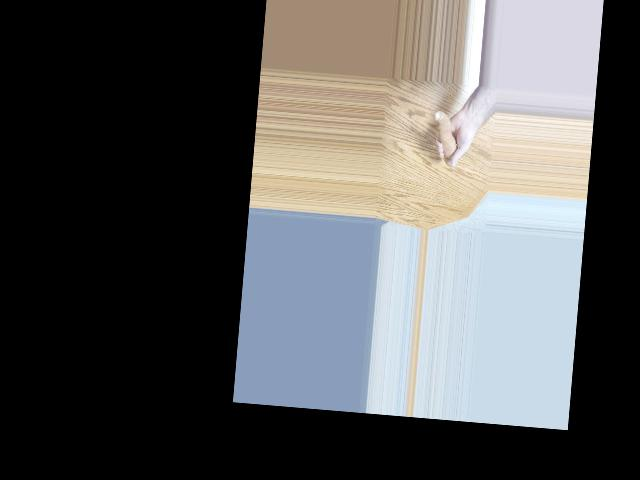sweet_potato: (431, 107, 460, 170)
